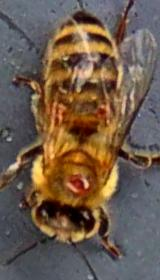varroa_mite: (47, 156, 101, 198), (82, 90, 124, 128), (43, 94, 78, 133)
